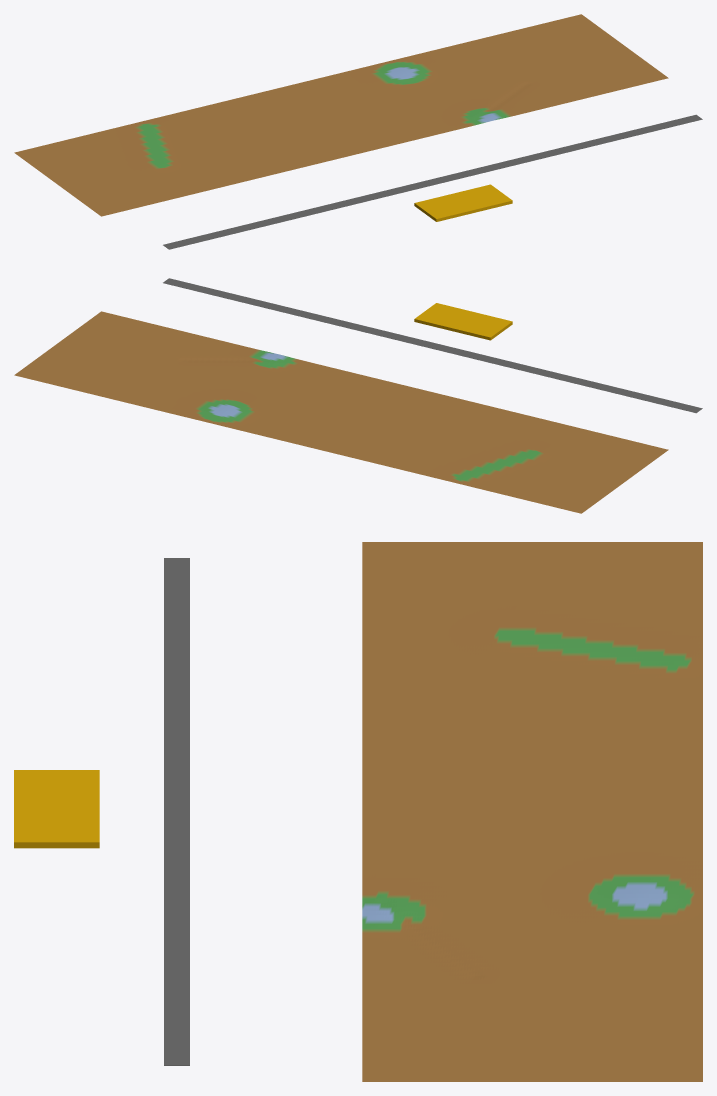
The model's file is final_airport_design.glb.
3 renders of one model, top to bottom at view 1: azimuth 30°, elevation 25°; view 2: azimuth 150°, elevation 25°; view 3: azimuth 270°, elevation 25°, orthographic. The views are drawn at different scales.
Parts seen in each view (by area): view 1: world; view 2: world; view 3: world.
Boxes of the visible parts, x1,y1,x2,y2 form: world: (14,14,702,249); world: (14,278,702,513); world: (14,542,702,1081).
Bounding box in the file's own units: 2977 × 15.9 × 1606.
